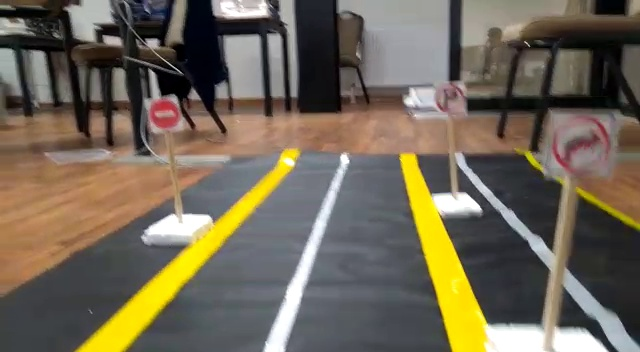girisi_olmayan_yol: (146, 96, 182, 128)
park_yapilmaz: (431, 82, 467, 116)
saga_donulmez: (551, 110, 611, 175)
